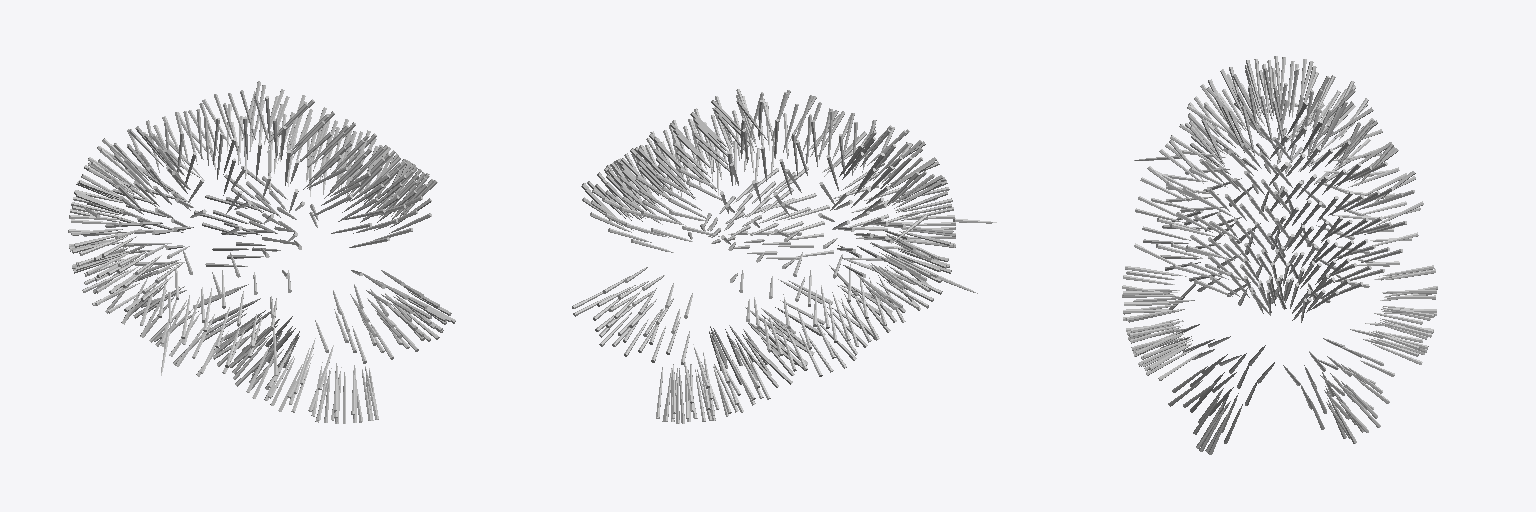
File: Fangs.obj
The picture shows the model from 3 angles: view 1: azimuth 30°, elevation 25°; view 2: azimuth 150°, elevation 25°; view 3: azimuth 270°, elevation 25°; orthographic projection.
Visible parts, largest first — view 1: Fangs_Cylinder.009; view 2: Fangs_Cylinder.009; view 3: Fangs_Cylinder.009.
Part boxes in pixels (left/top/right/bottom): Fangs_Cylinder.009: left=68, top=81, right=455, bottom=423; Fangs_Cylinder.009: left=572, top=89, right=996, bottom=423; Fangs_Cylinder.009: left=1122, top=56, right=1437, bottom=454.
Size of the model in its own units: 51.36 by 45.77 by 40.61.